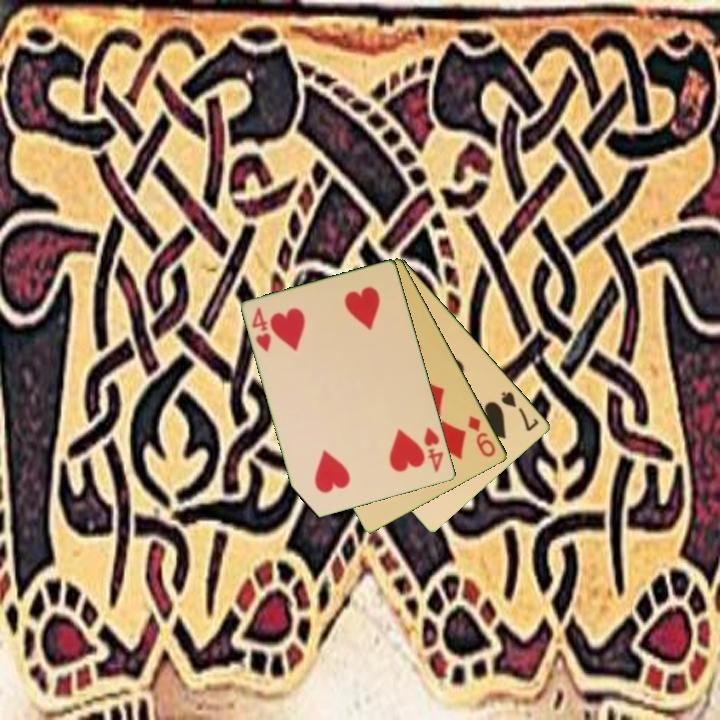4h: (421, 424, 447, 475), (249, 304, 275, 355)
7s: (498, 388, 542, 434)
9d: (464, 412, 499, 460)
